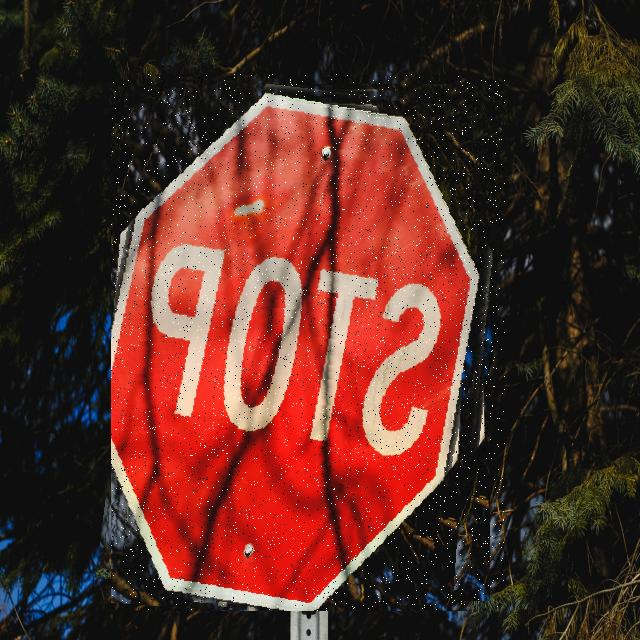stop: (111, 74, 505, 611)
